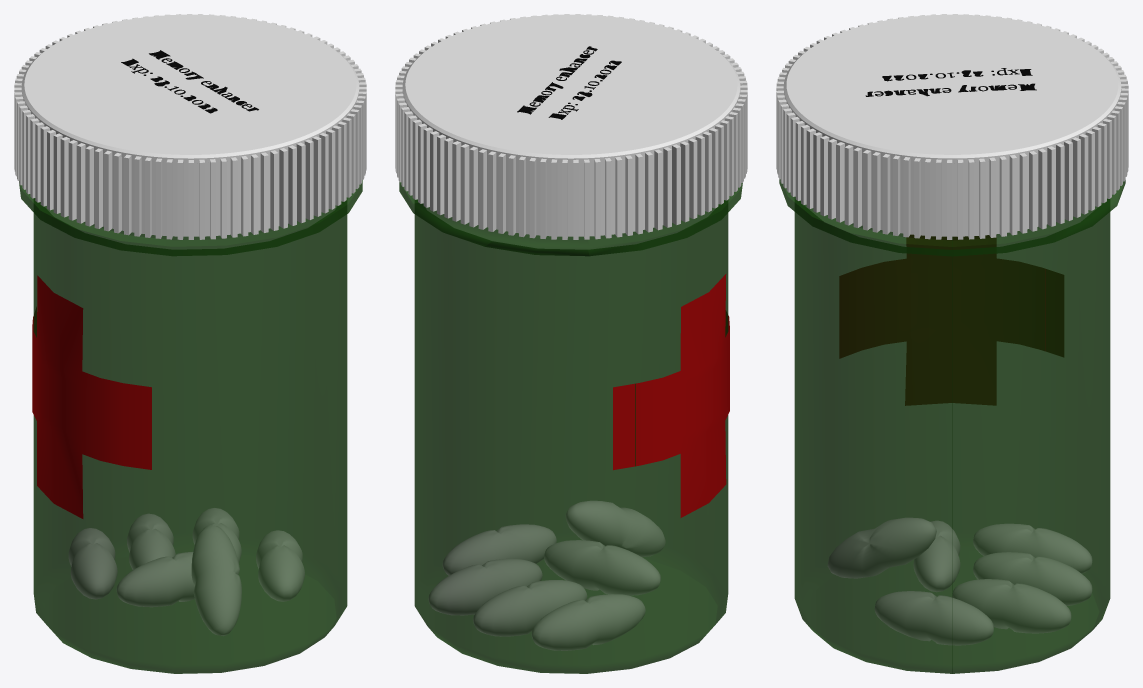
File: pills.fbx
3 renders of one model, left to right at view 1: azimuth 30°, elevation 25°; view 2: azimuth 150°, elevation 25°; view 3: azimuth 270°, elevation 25°, orthographic.
Parts seen in each view (by area): view 1: pCylinder1, pCylinder9241, pCylinder9240, pPlane1, pasted__pasted__pasted__pSphere1 (×3), pSphere1, pasted__pSphere1, pasted__pasted__pSphere1, typeMesh1; view 2: pCylinder1, pCylinder9241, pCylinder9240, pPlane1, pasted__pasted__pasted__pSphere1 (×3), pSphere1, pasted__pasted__pSphere1, pasted__pSphere1, typeMesh1; view 3: pCylinder1, pCylinder9241, pCylinder9240, pPlane1, pasted__pasted__pasted__pSphere1 (×3), pasted__pSphere1, pasted__pasted__pSphere1, pSphere1, typeMesh1.
Part boxes in pixels (box(x1,y1,x2,y2)): pCylinder1: box(19, 180, 362, 673); pCylinder9241: box(21, 14, 359, 163); pCylinder9240: box(14, 14, 366, 239); pPlane1: box(32, 275, 151, 518); pasted__pasted__pasted__pSphere1 (×3): box(68, 508, 241, 635); pSphere1: box(116, 552, 194, 606); pasted__pSphere1: box(256, 530, 304, 601); pasted__pasted__pSphere1: box(127, 514, 175, 569); typeMesh1: box(121, 50, 258, 113); pCylinder1: box(399, 182, 742, 673); pCylinder9241: box(402, 14, 740, 163); pCylinder9240: box(395, 14, 747, 239); pPlane1: box(613, 274, 729, 517); pasted__pasted__pasted__pSphere1 (×3): box(428, 501, 665, 650); pSphere1: box(544, 540, 660, 595); pasted__pasted__pSphere1: box(473, 580, 586, 636); pasted__pSphere1: box(443, 524, 556, 575); typeMesh1: box(517, 46, 621, 119); pCylinder1: box(779, 179, 1125, 673); pCylinder9241: box(783, 14, 1121, 163); pCylinder9240: box(776, 14, 1128, 239); pPlane1: box(840, 235, 1063, 405); pasted__pasted__pasted__pSphere1 (×3): box(828, 518, 1092, 633); pasted__pSphere1: box(875, 591, 993, 645); pasted__pasted__pSphere1: box(973, 552, 1092, 605); pSphere1: box(913, 521, 959, 591); typeMesh1: box(865, 68, 1036, 96).
Bounding box in the file's own units: 2.23 × 3.7 × 2.23.
